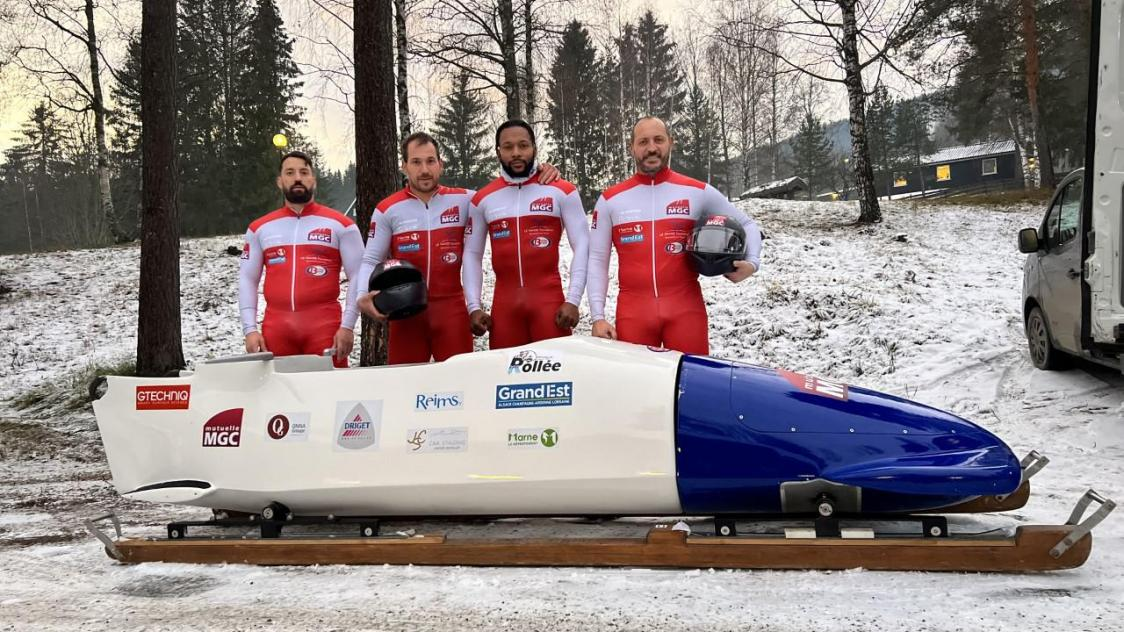Bobsleigh: (97, 335, 1091, 569)
